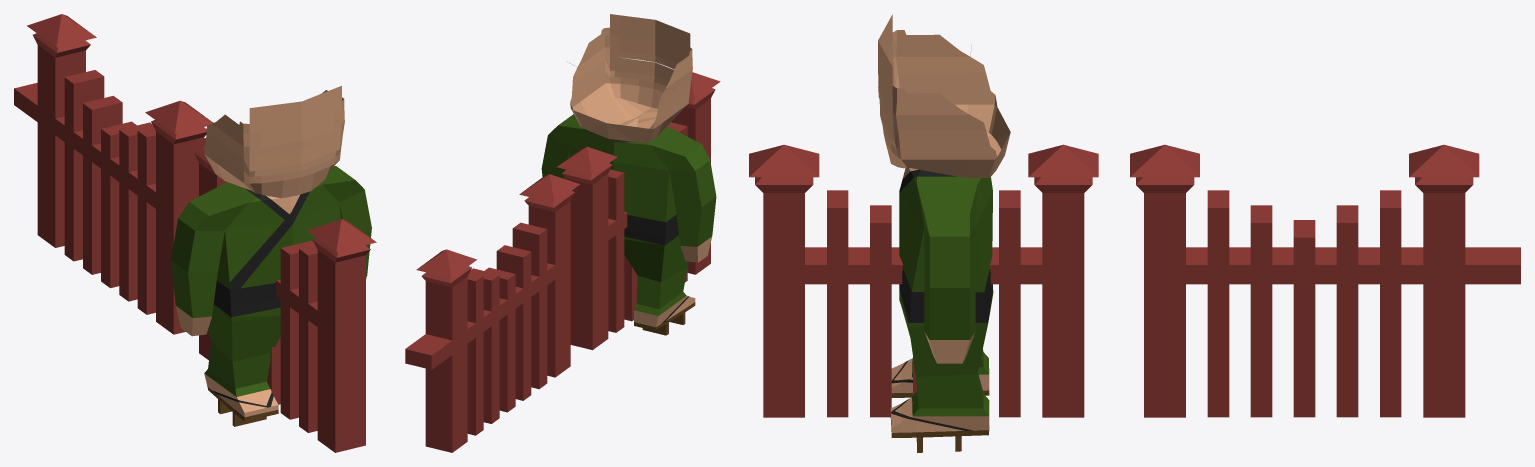
File: Fence City.fbx
The picture shows the model from 3 angles, left to right: view 1: azimuth 30°, elevation 25°; view 2: azimuth 150°, elevation 25°; view 3: azimuth 270°, elevation 25°; orthographic projection. The views are drawn at different scales.
Visible parts, largest first — view 1: Cube.001, Cube.002, Cube; view 2: Cube.001, Cube.002, Cube; view 3: Cube.002, Cube, Cube.001.
Part boxes in pixels (x1,y1,x2,y2): Cube.001: (171, 85, 371, 426); Cube.002: (14, 14, 213, 334); Cube: (188, 138, 376, 452); Cube.001: (541, 14, 716, 335); Cube.002: (405, 174, 579, 452); Cube: (556, 72, 720, 350); Cube.002: (1130, 144, 1520, 417); Cube: (749, 144, 1098, 417); Cube.001: (878, 14, 1010, 452).
Bounding box in the file's own units: 92.7 × 157 × 286.
